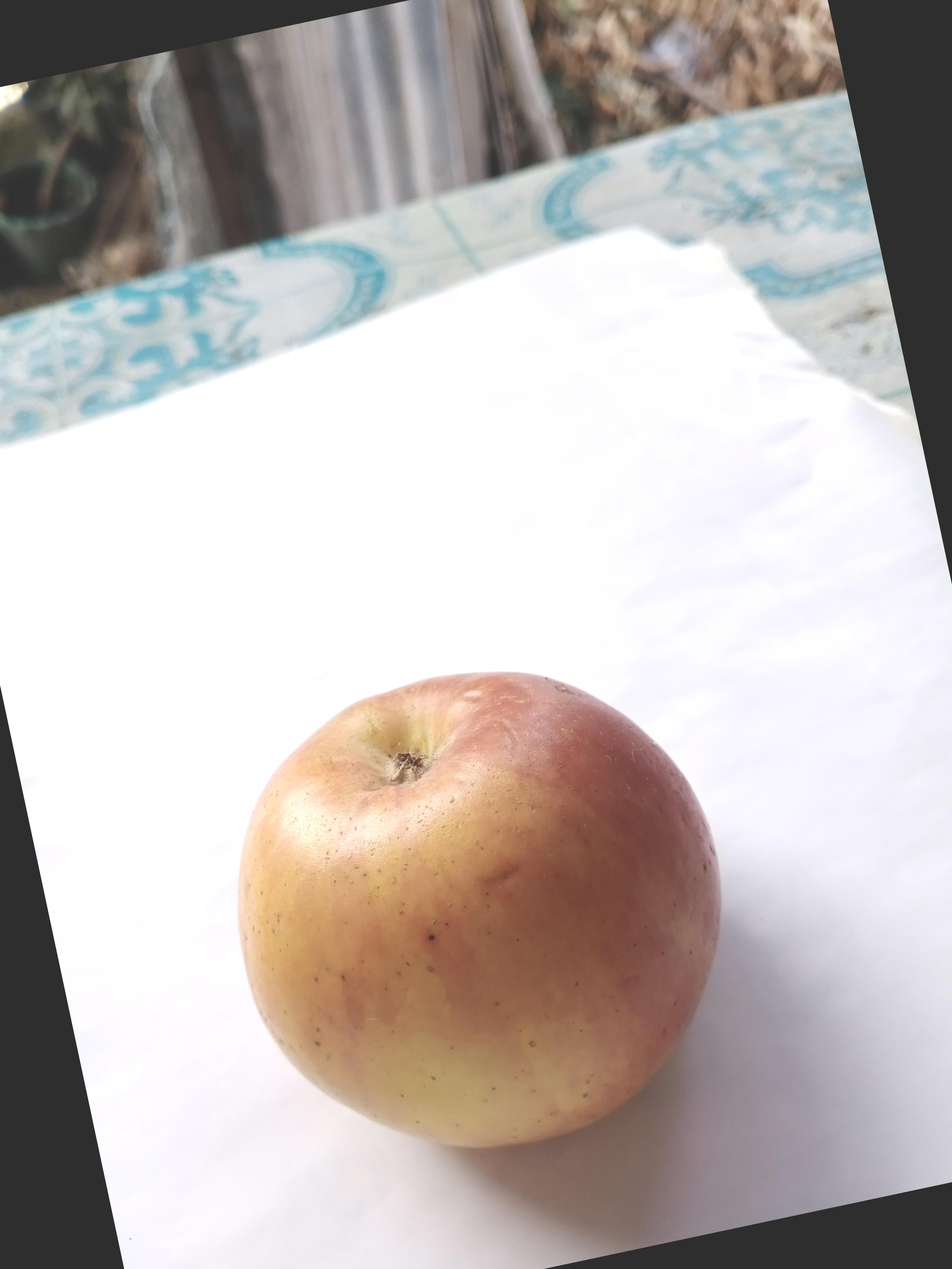Apple Ripe: (29, 745, 651, 1269)
